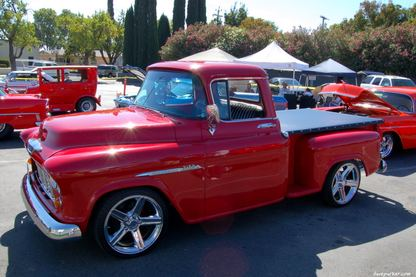car: (311, 79, 416, 157), (6, 67, 98, 112), (0, 87, 48, 141), (360, 77, 416, 91)
truck: (19, 61, 387, 258)
